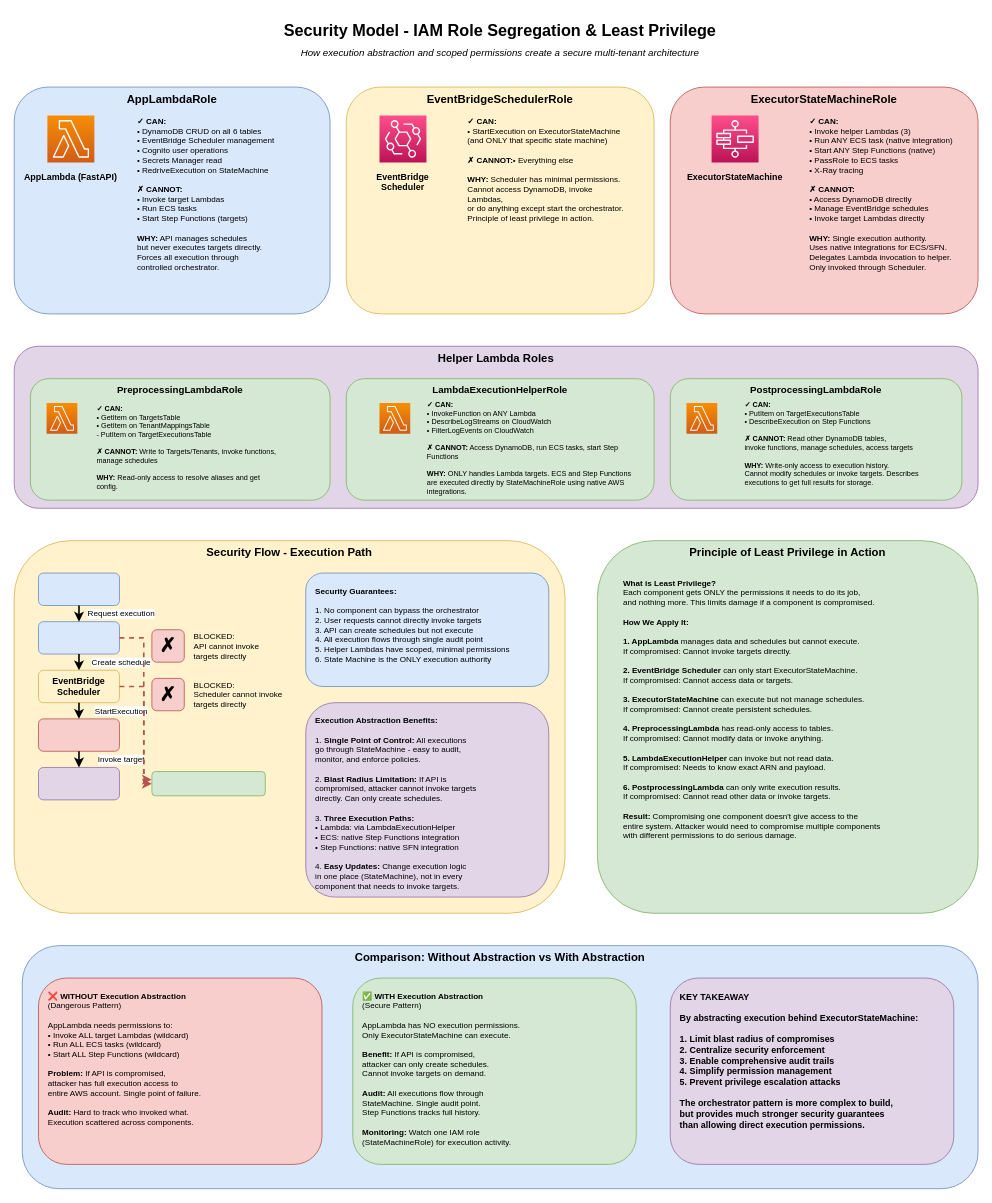
Some shapes in this 992 by 1203 pixel diagram are drawn without their labels. The centre of each missing label's shape, as x and y in pixels:
AppLambda: point 78,637
Executor StateMachine: point 78,734
TARGET (Lambda/ECS/SFN): point 78,783
User/Schedule: point 78,588
✓ ONLY VALID PATH: point 208,783
